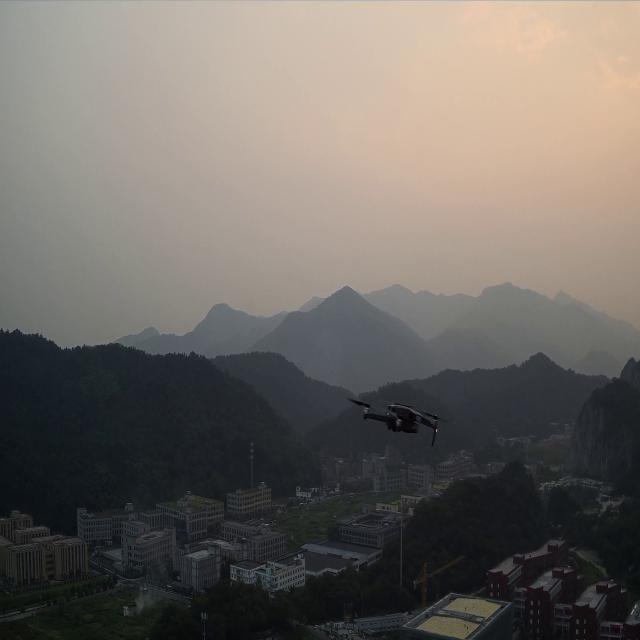UAV: (343, 392, 449, 449)
